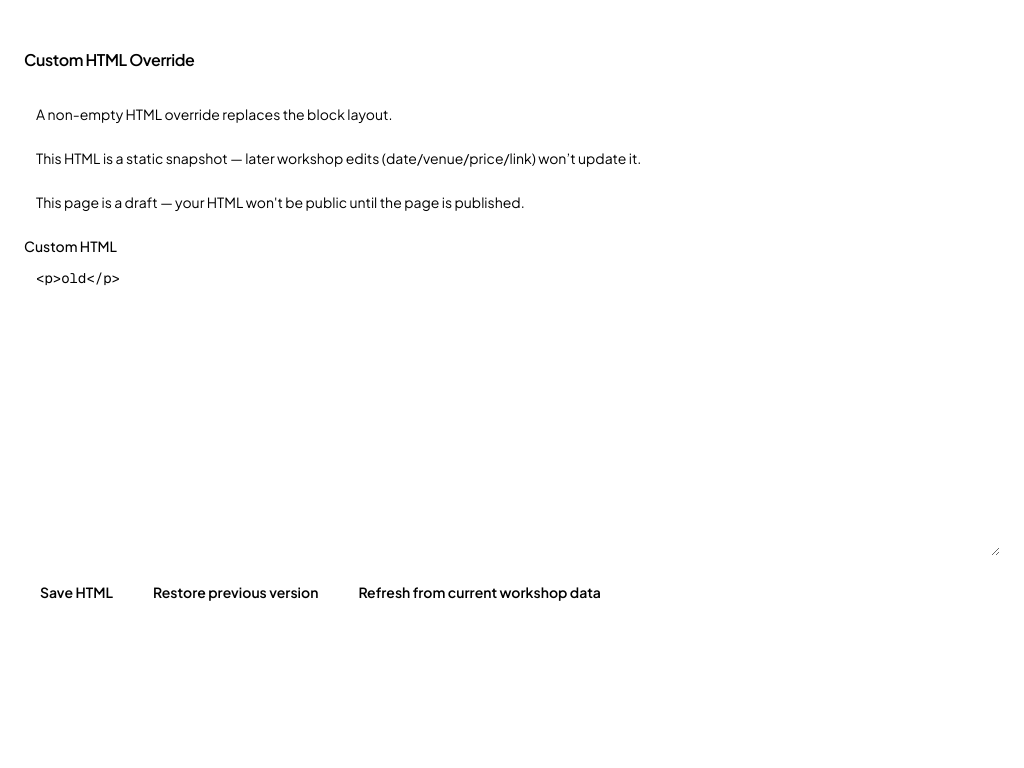
Test case: confirming Refresh fetches ?resolved=1 and updates textarea without saving
// Open dialog
Click the button "Refresh from current workshop data" at (480, 592), box x1=342 y1=572 x2=617 y2=612
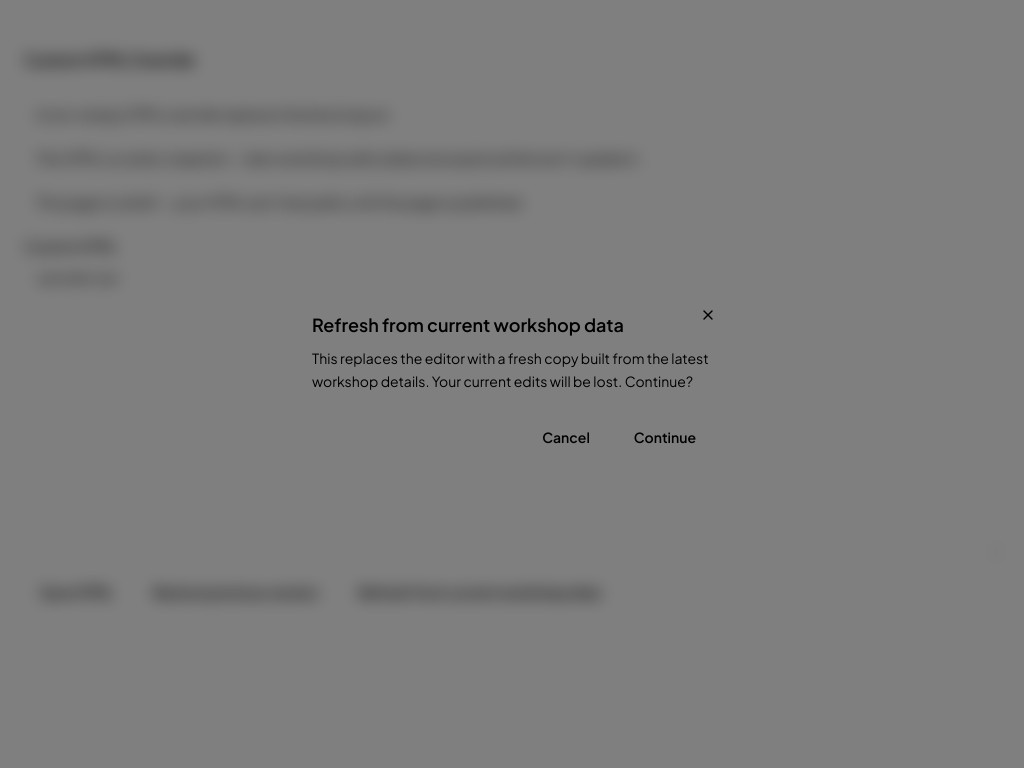
Click the button "Continue" at (665, 437), box x1=618 y1=417 x2=712 y2=457
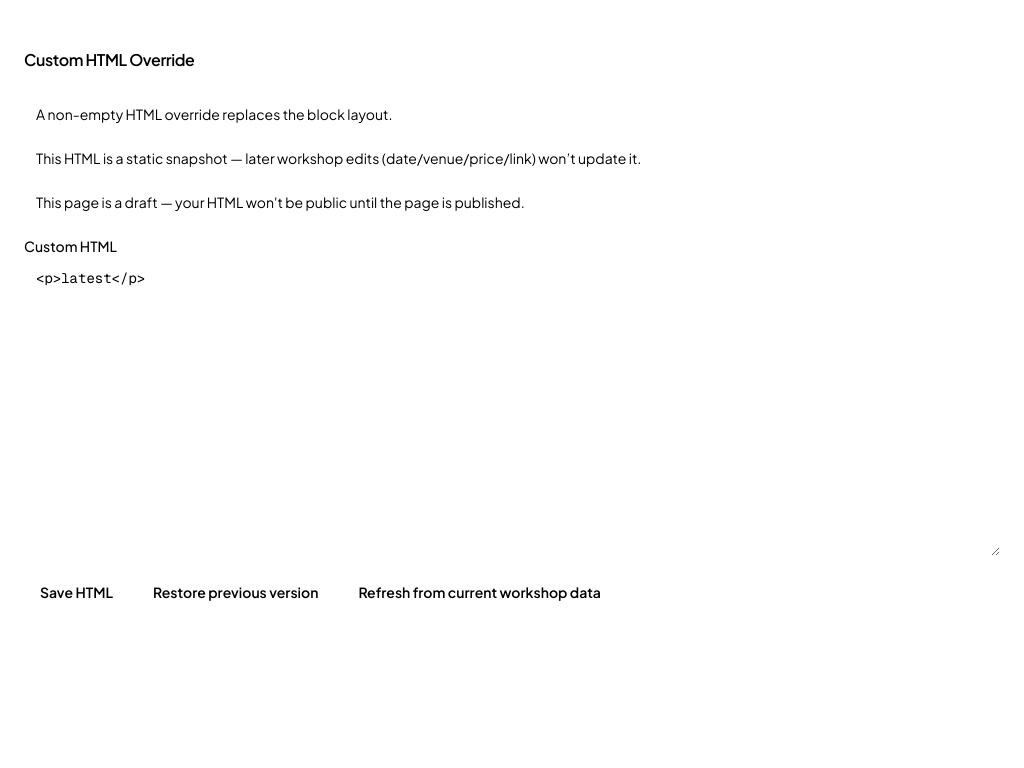
Now the text box labelled "Custom HTML" holds "<p>latest</p>", box x1=24 y1=260 x2=1000 y2=556
